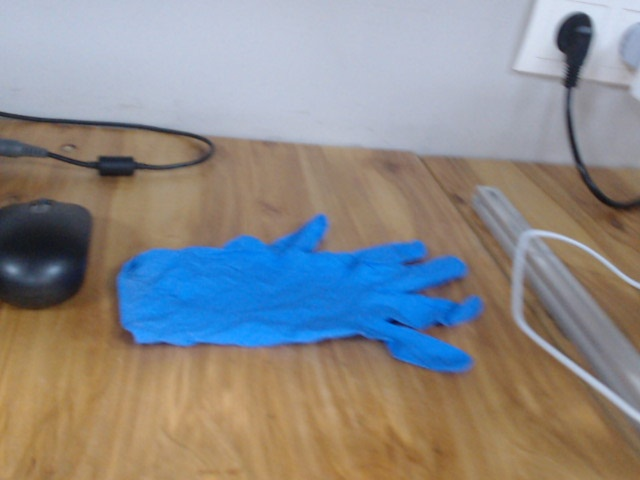medical_glove: (117, 214, 483, 378)
